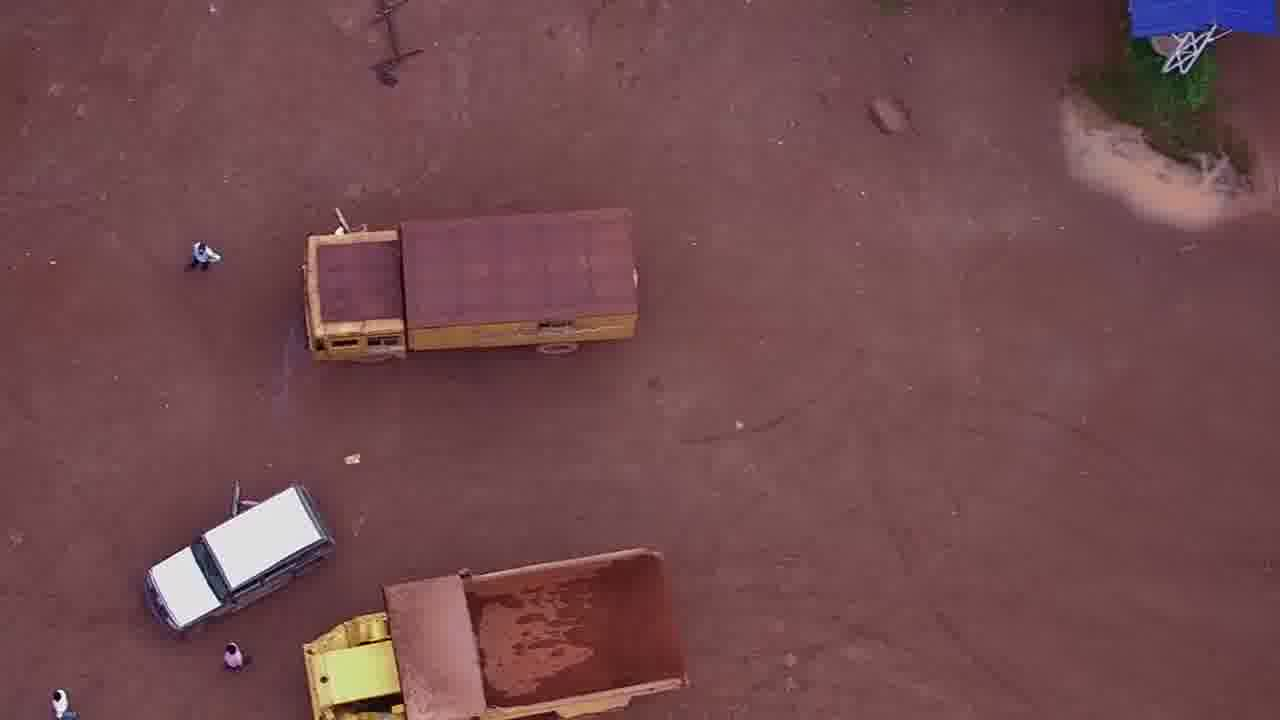HMV: (299, 525, 692, 720), (301, 203, 642, 366)
LMV: (141, 460, 338, 637)
Person: (184, 231, 224, 280), (215, 631, 253, 677), (47, 679, 85, 719)
